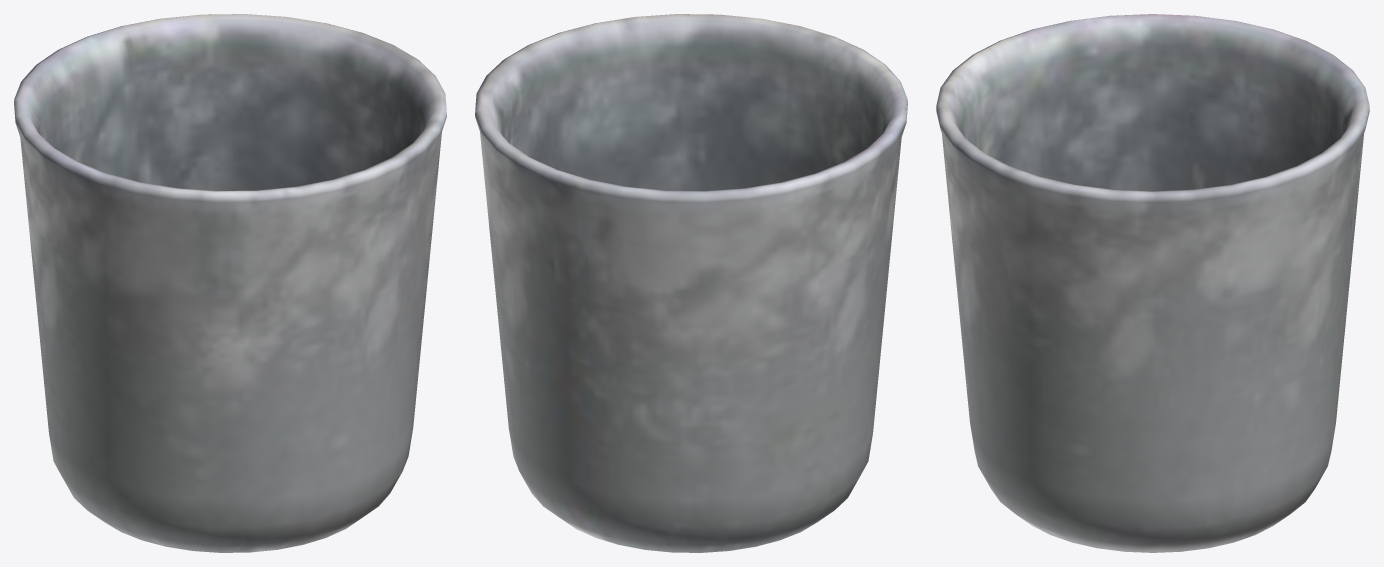
Rendered from pen_cup.glb.
The picture shows the model from 3 angles, left to right: view 1: azimuth 30°, elevation 25°; view 2: azimuth 150°, elevation 25°; view 3: azimuth 270°, elevation 25°; orthographic projection.
Visible parts, largest first — view 1: stationery_supplies_pencilcup; view 2: stationery_supplies_pencilcup; view 3: stationery_supplies_pencilcup.
Part boxes in pixels (box(x1,y1,x2,y2)): stationery_supplies_pencilcup: box(14, 14, 446, 552); stationery_supplies_pencilcup: box(475, 14, 907, 552); stationery_supplies_pencilcup: box(936, 14, 1369, 552).
Size of the model in its own units: 0.0837 by 0.0839 by 0.0837.
Materials: 1 (1 with a texture image).
